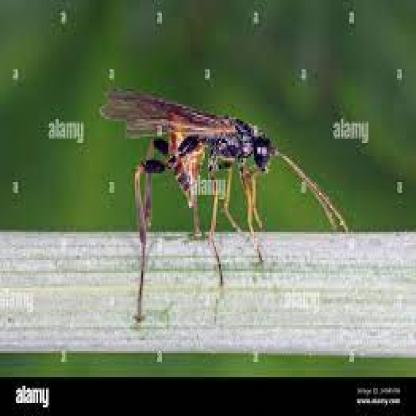sawfly: (98, 81, 357, 323)
